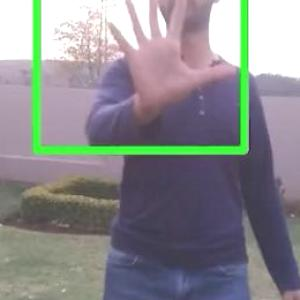follow_hand: (98, 0, 242, 111)
